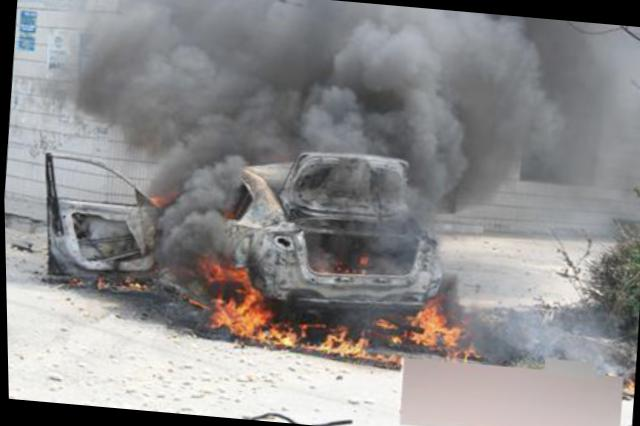fire: (209, 291, 272, 335), (411, 302, 460, 348), (208, 263, 248, 283), (337, 334, 368, 356), (272, 326, 300, 346), (372, 319, 397, 330)
